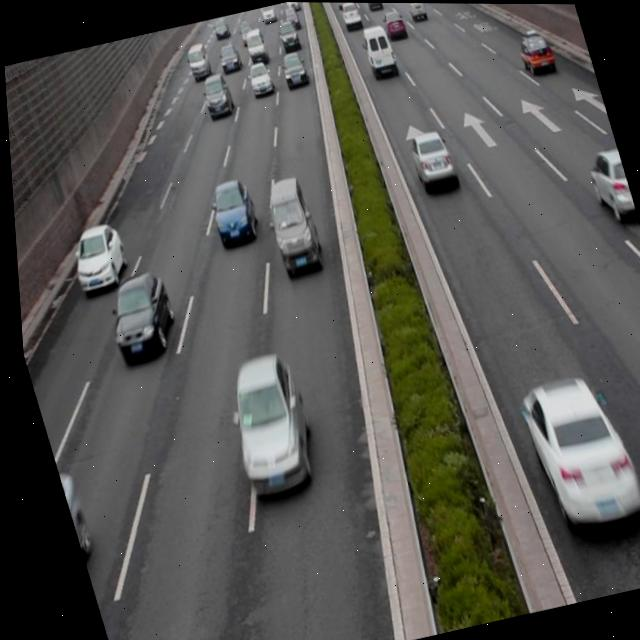car: (507, 366, 640, 540), (207, 351, 321, 504), (94, 269, 180, 366), (59, 219, 130, 296), (577, 141, 636, 229), (201, 177, 262, 250), (402, 127, 456, 194), (512, 29, 555, 76), (196, 71, 233, 117)
truck: (255, 174, 323, 278)
